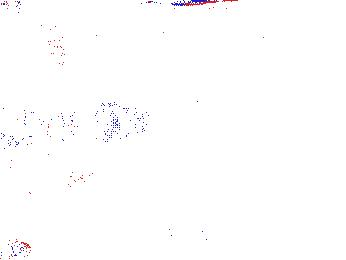X-ray fish: (5, 99, 80, 152), (193, 218, 249, 249), (1, 236, 31, 259)
red belly glassfish: (1, 1, 39, 13)
